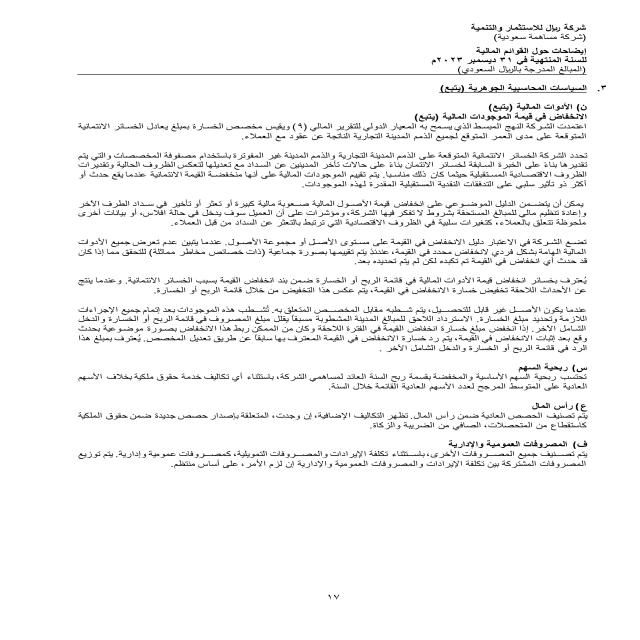notes: (470, 48, 591, 54)
text: (50, 81, 627, 496)
